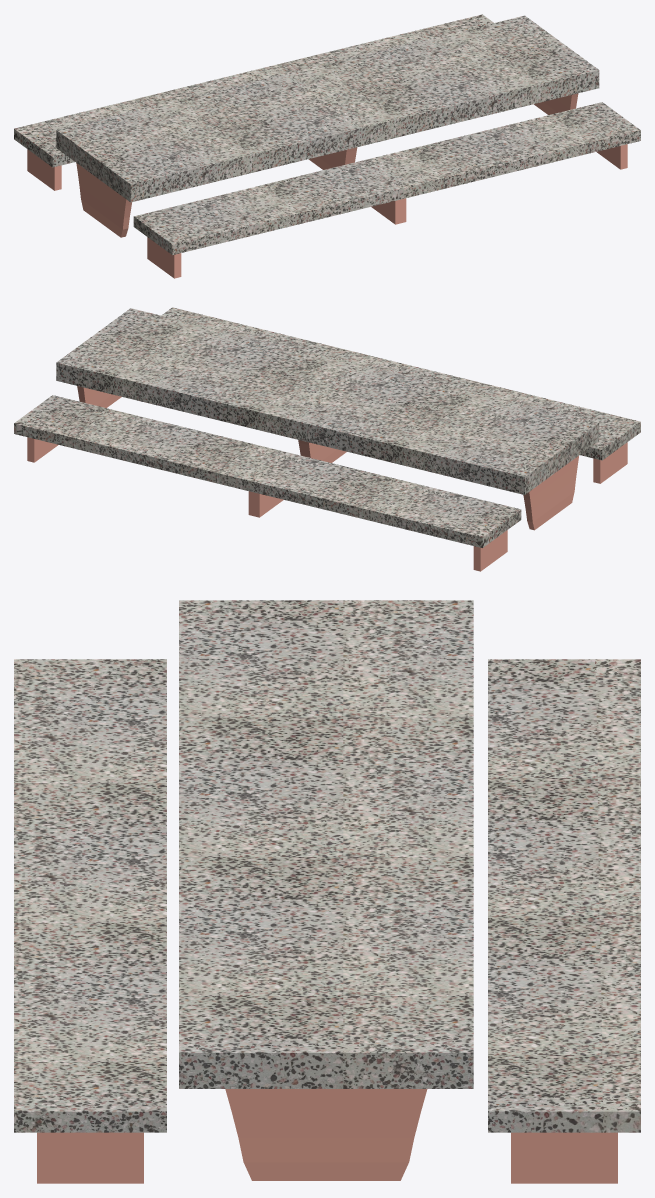
Rendered from mesaysilla.fbx.
The picture shows the model from 3 angles, top to bottom: view 1: azimuth 30°, elevation 25°; view 2: azimuth 150°, elevation 25°; view 3: azimuth 270°, elevation 25°; orthographic projection. The views are drawn at different scales.
Visible parts, largest first — view 1: mesasilla; view 2: mesasilla; view 3: mesasilla.
Boxes of the visible parts, box(x1,y1,x2,y2) form: mesasilla: box(14, 14, 640, 278); mesasilla: box(14, 307, 640, 571); mesasilla: box(14, 600, 640, 1183).
Size of the model in its own units: 354 by 50.42 by 207.
